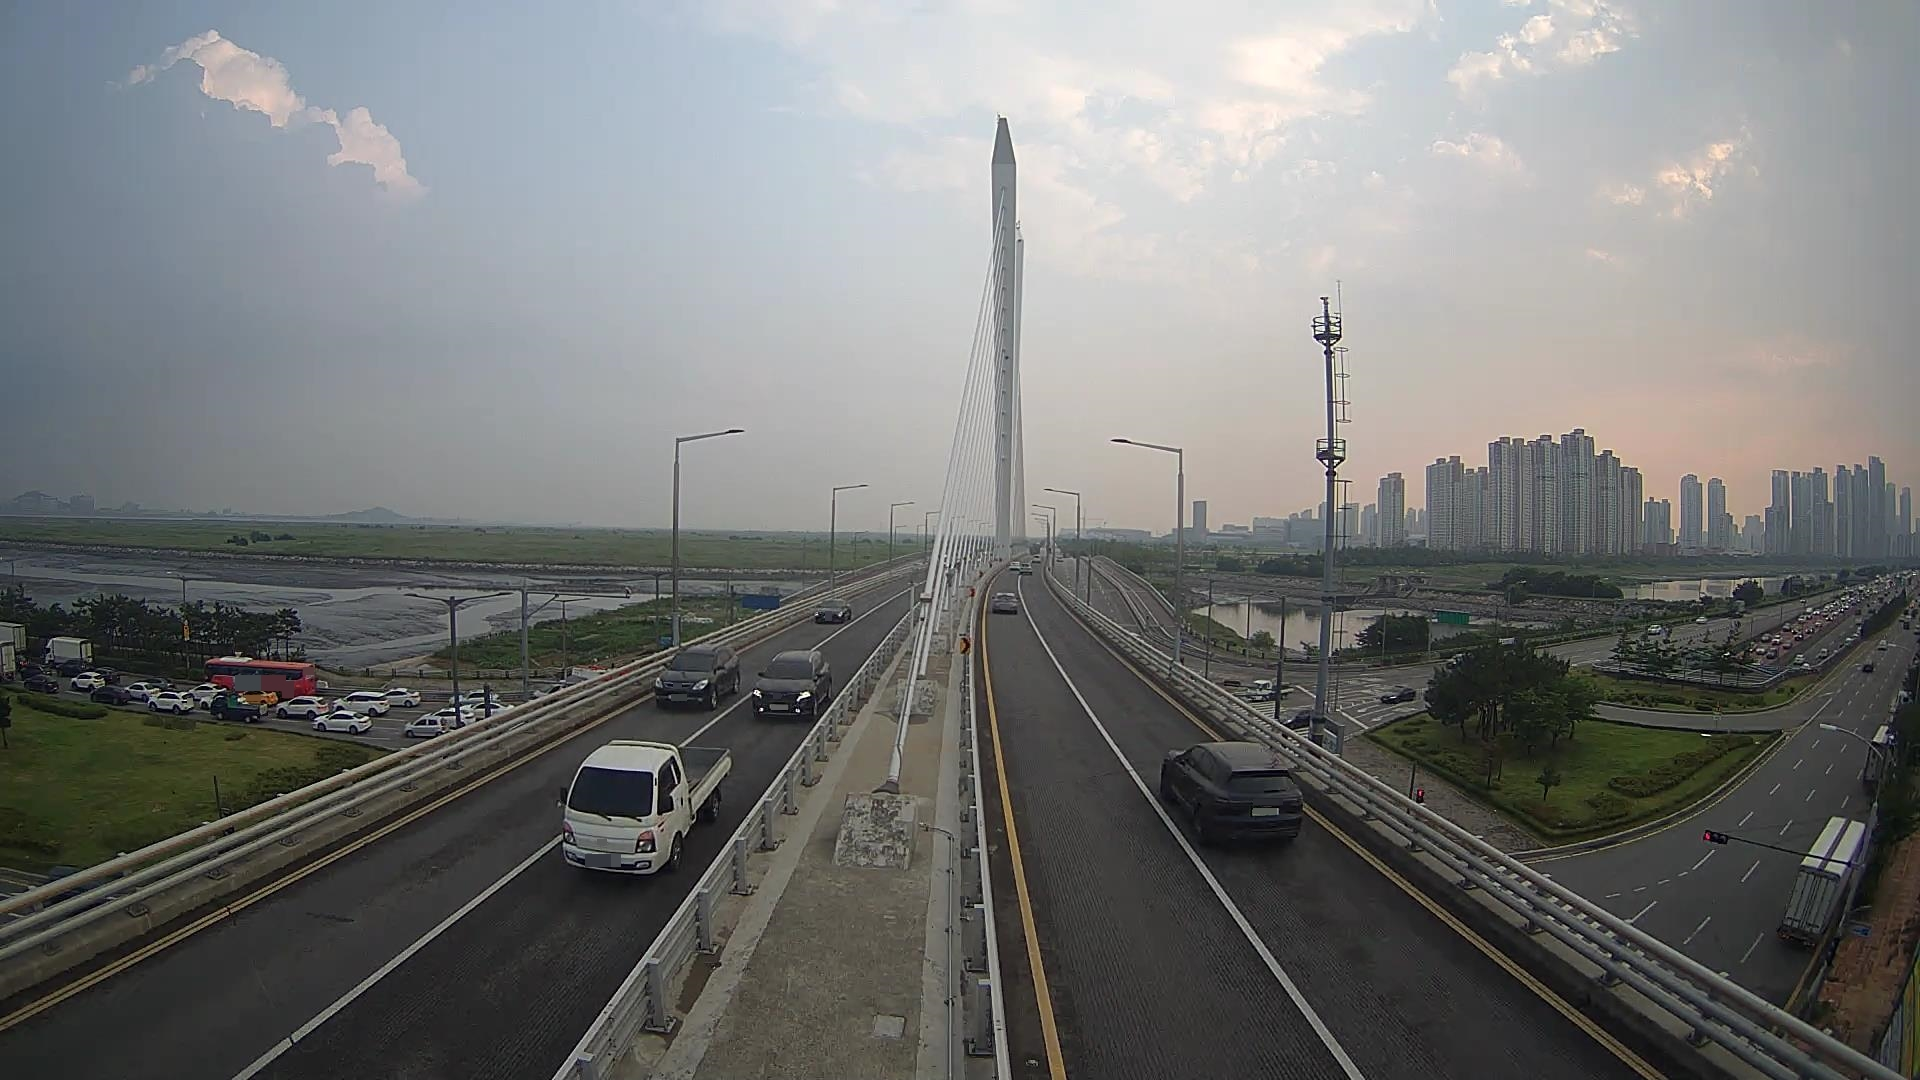정상차량: (556, 740, 732, 874)
